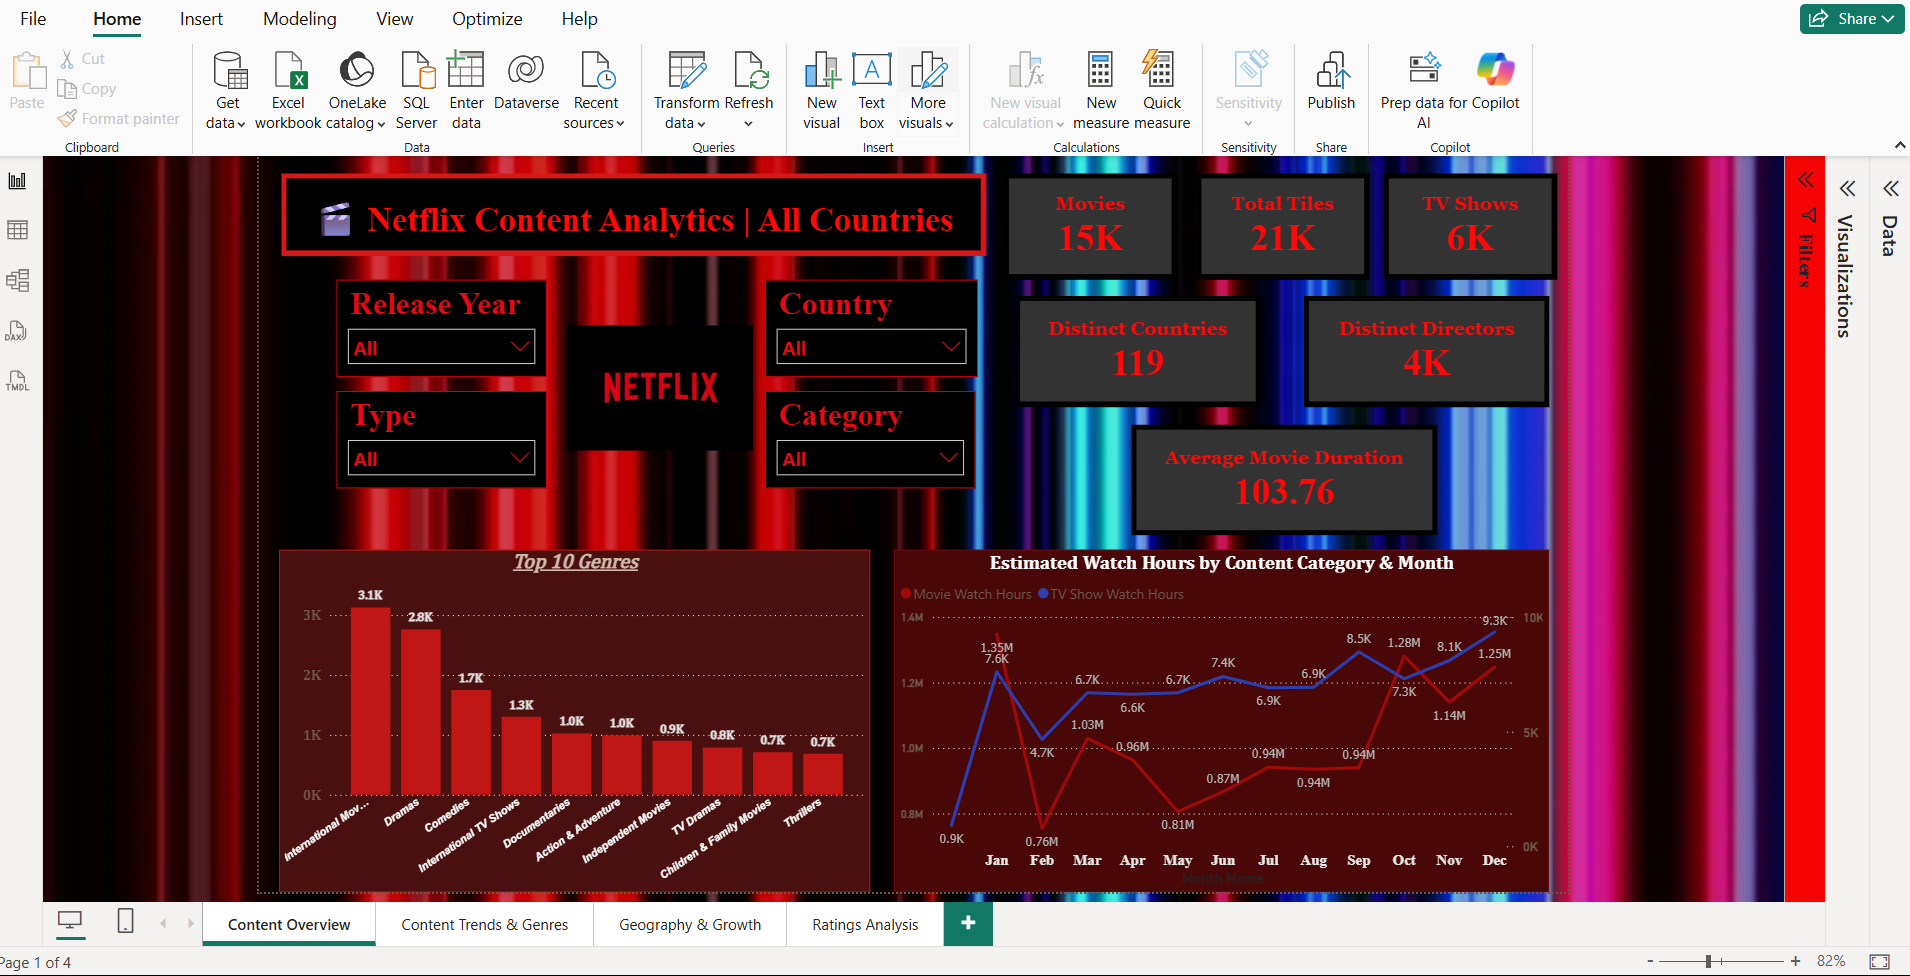

This screenshot's page, from the dashboard's own definition file:
{"tool":"powerbi","page":{"name":"Page 1","canvas":[1280,720],"ordinal":0},"visuals":[{"type":"cardVisual","fields":{"Data":["Measure  Table1.Movies"]},"box":[728.8,17.1,170,103.9],"z":0},{"type":"cardVisual","fields":{"Data":["Measure  Table1.TV Shows"]},"box":[1100.5,17.1,170,103.9],"z":1000},{"type":"cardVisual","fields":{"Data":["Measure  Table1.Total Tiles"]},"box":[917.1,17.1,170,103.9],"z":2000},{"type":"cardVisual","fields":{"Data":["Measure  Table1.Distinct Countries"]},"box":[739.8,137,240.9,108.8],"z":3000},{"type":"cardVisual","fields":{"Data":["Measure  Table1.Distinct Directors"]},"box":[1022.3,137,240,108.8],"z":4000},{"type":"slicer","fields":{"Values":["Netflix Dataset.Country"]},"box":[495.2,121.1,207.9,95.4],"z":5000},{"type":"cardVisual","fields":{"Data":["Measure  Table1.Title"]},"box":[22,17.1,689.7,80.7],"z":6000},{"type":"slicer","fields":{"Values":["Netflix Dataset.Type"]},"box":[75.8,229.9,205.4,95.4],"z":7000},{"type":"slicer","fields":{"Values":["Netflix Dataset.Release Year"]},"box":[75.8,121.1,205.4,95.4],"z":8000},{"type":"slicer","fields":{"Values":["Netflix Dataset.Category"]},"box":[495.2,229.9,205.4,95.4],"z":9000},{"type":"cardVisual","fields":{"Data":["Measure  Table1.Average Movie Duration"]},"box":[853.5,262.9,299,108],"z":10000},{"type":"clusteredColumnChart","title":"Top 10 Genres","fields":{"Y":["CountNonNull(Netflix Dataset.Show_Id)"],"Category":["Netflix Dataset.Type"]},"box":[19.6,385.2,578.4,335.1],"z":11000},{"type":"image","box":[300.8,137,182.2,179.8],"z":12000},{"type":"lineChart","title":"Estimated Watch Hours by Content Category & Month","fields":{"Y":["Measure  Table1.Movie Watch Hours"],"Y2":["Measure  Table1.TV Show Watch Hours"],"Category":["Netflix Dataset.Month Name"]},"box":[621.2,385.2,640.8,335.1],"z":13000}]}

Visuals, with their boxes on the page's 1280x720 design canvas (x1, y1, x2, y2). These are canvas units, not pixel positions in the 1910x976 screenshot, which may show the page scaled, cropped or inside an application window:
cardVisual - Measure  Table1.Movies: <bbox>729, 17, 899, 121</bbox>
cardVisual - Measure  Table1.TV Shows: <bbox>1100, 17, 1270, 121</bbox>
cardVisual - Measure  Table1.Total Tiles: <bbox>917, 17, 1087, 121</bbox>
cardVisual - Measure  Table1.Distinct Countries: <bbox>740, 137, 981, 246</bbox>
cardVisual - Measure  Table1.Distinct Directors: <bbox>1022, 137, 1262, 246</bbox>
slicer - Netflix Dataset.Country: <bbox>495, 121, 703, 216</bbox>
cardVisual - Measure  Table1.Title: <bbox>22, 17, 712, 98</bbox>
slicer - Netflix Dataset.Type: <bbox>76, 230, 281, 325</bbox>
slicer - Netflix Dataset.Release Year: <bbox>76, 121, 281, 216</bbox>
slicer - Netflix Dataset.Category: <bbox>495, 230, 701, 325</bbox>
cardVisual - Measure  Table1.Average Movie Duration: <bbox>854, 263, 1152, 371</bbox>
"Top 10 Genres" clusteredColumnChart: <bbox>20, 385, 598, 720</bbox>
image: <bbox>301, 137, 483, 317</bbox>
"Estimated Watch Hours by Content Category & Month" lineChart: <bbox>621, 385, 1262, 720</bbox>
